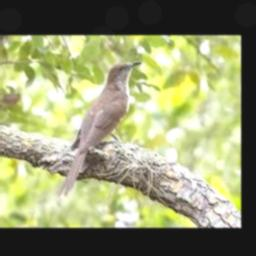Cuckoo: (56, 60, 141, 200)
